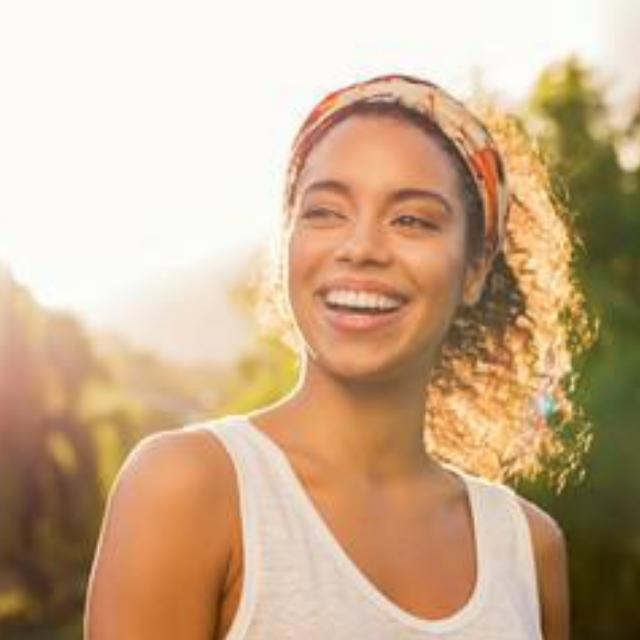Happy: (266, 96, 508, 416)
